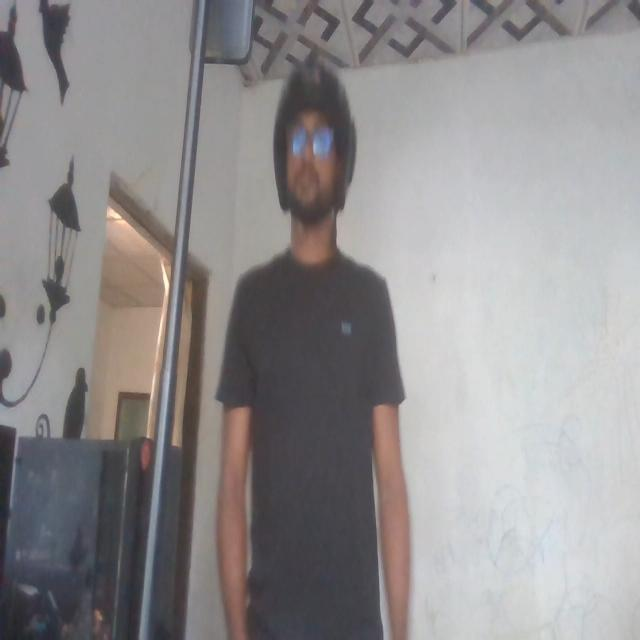Helmet_Wearer: (268, 57, 364, 256)
Person: (221, 59, 404, 640)
